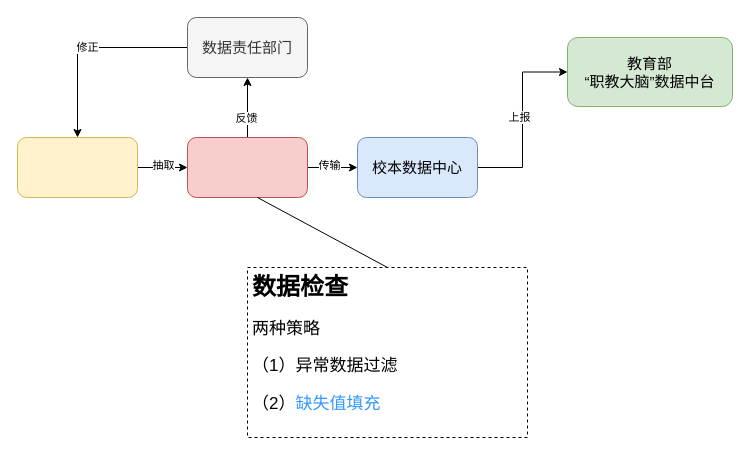
The diagram is 750 pixels wide and 455 high, and some of its shapes have lost their labels. The box of each missing label's shape, as (x1, y1, x2, y2) in pixels:
差错检测: (186, 136, 308, 198)
源系统: (16, 136, 138, 198)
